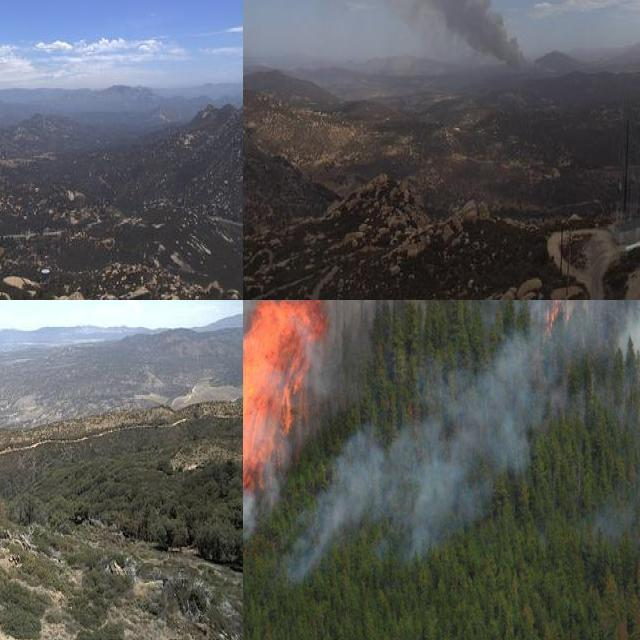fire: (243, 300, 342, 550)
smoke: (284, 329, 553, 572), (243, 0, 559, 85)
